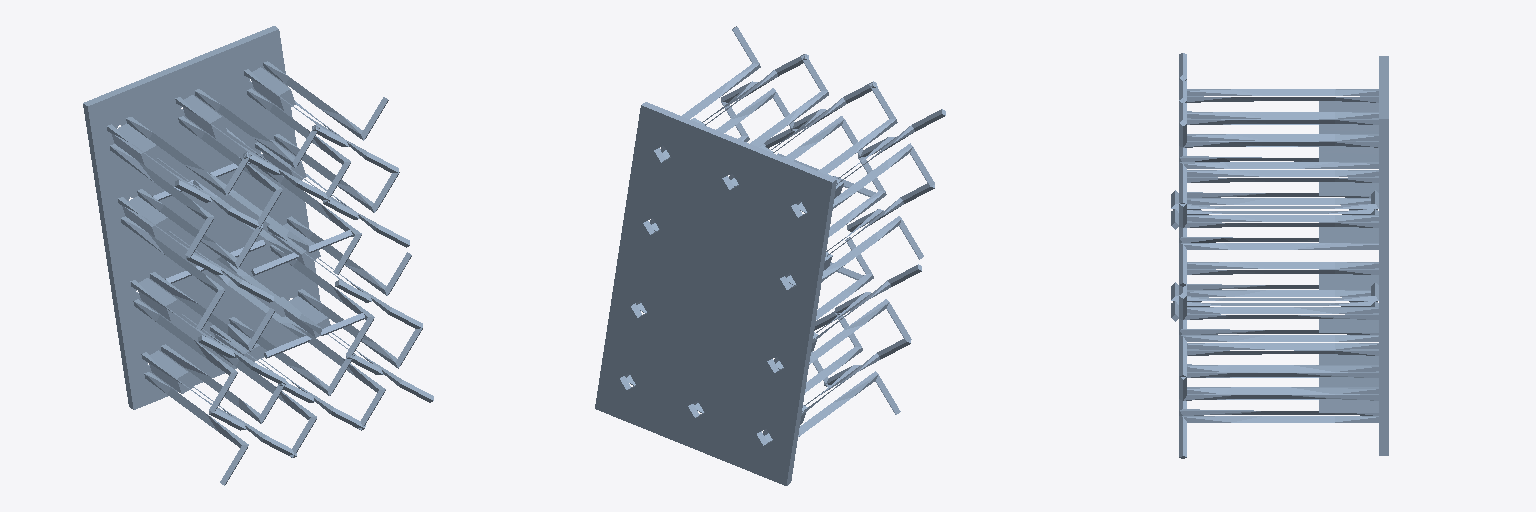
The picture shows the model from 3 angles: view 1: azimuth 30°, elevation 25°; view 2: azimuth 150°, elevation 25°; view 3: azimuth 270°, elevation 25°; orthographic projection.
Parts seen in each view (by area): view 1: g[number redacted]_1; view 2: g[number redacted]_1; view 3: g[number redacted]_1.
Boxes of the visible parts, x1=… form: g[number redacted]_1: x1=83, y1=26, x2=433, y2=485; g[number redacted]_1: x1=595, y1=26, x2=945, y2=485; g[number redacted]_1: x1=1171, y1=53, x2=1388, y2=458.
Size of the model in its own units: 74.89 by 96.66 by 54.4.